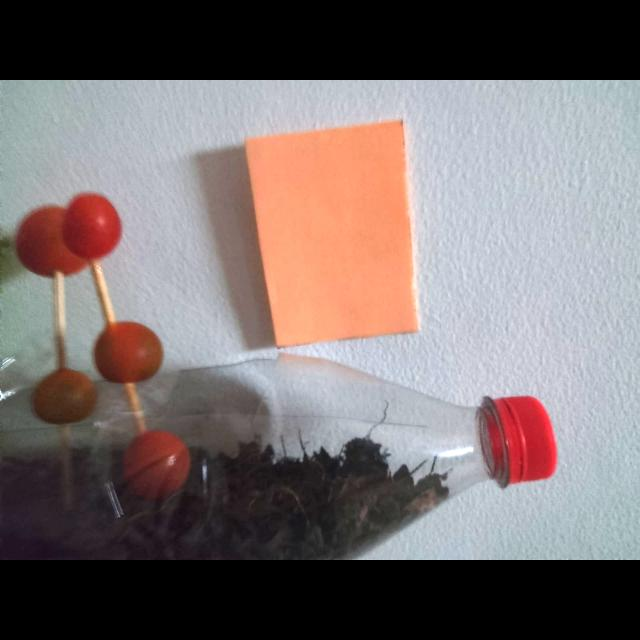card: (245, 120, 418, 347), (245, 121, 418, 347)
fruit_maturation: (123, 431, 190, 499)
fully_grown: (15, 194, 121, 277), (94, 322, 163, 383), (32, 369, 96, 424)
